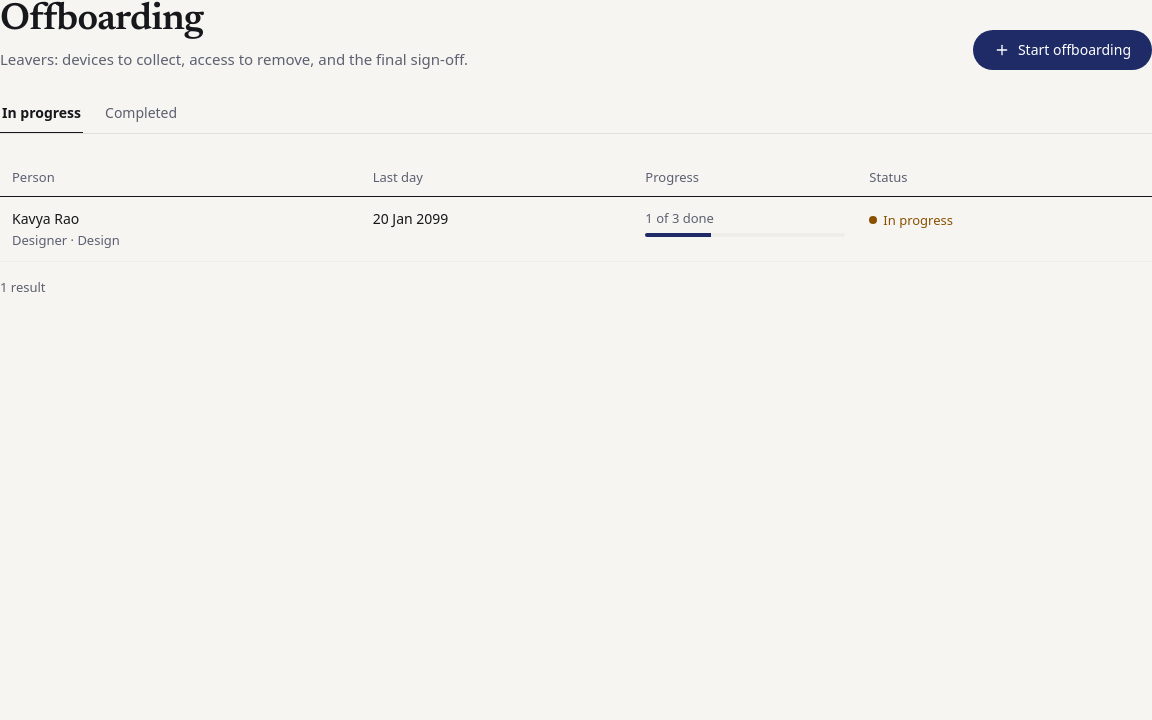
Test: Offboarding › only enables completion once every task is done
The image size is (1152, 720).
Click the button with aria-label "Open Kavya Rao": (66,229) [12, 209, 120, 249]
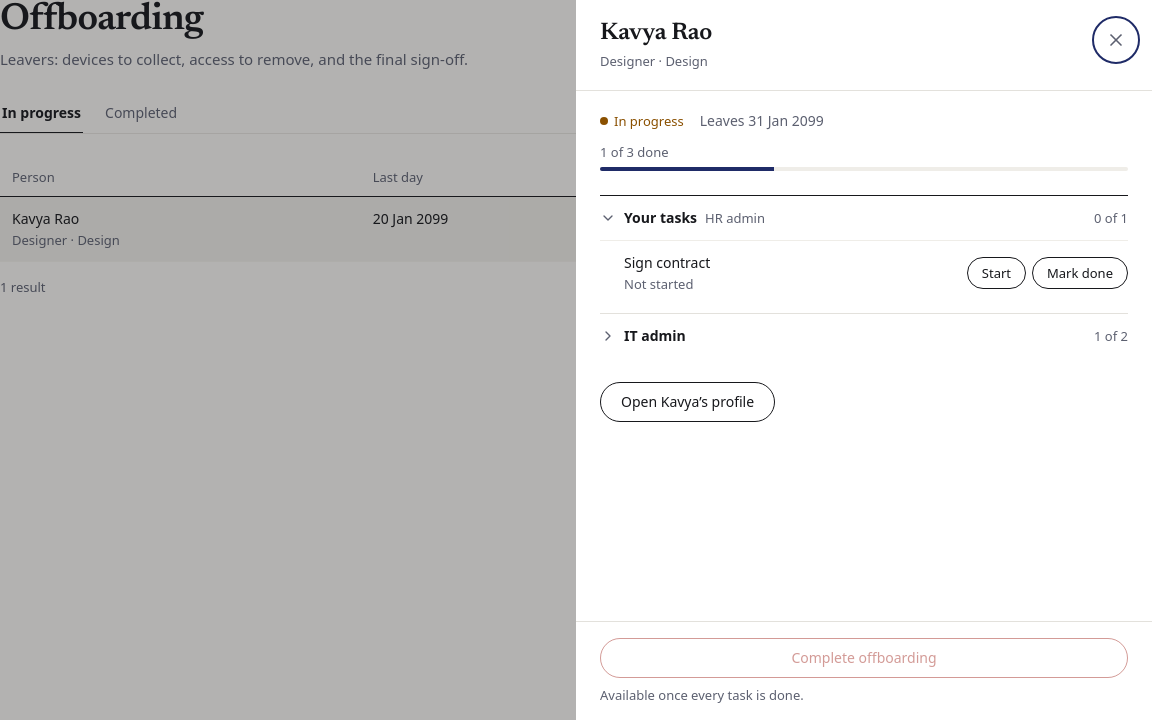
expect the button "Complete offboarding" is disabled: met, box [600, 638, 1128, 678]
expect the text "Available once every task is done." is shown: met, box [600, 686, 804, 704]
